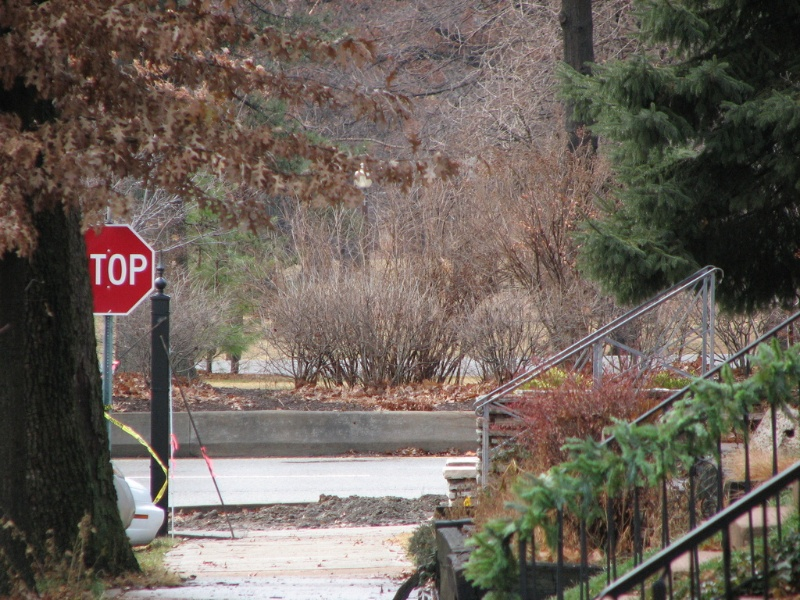stop: (77, 214, 158, 324)
